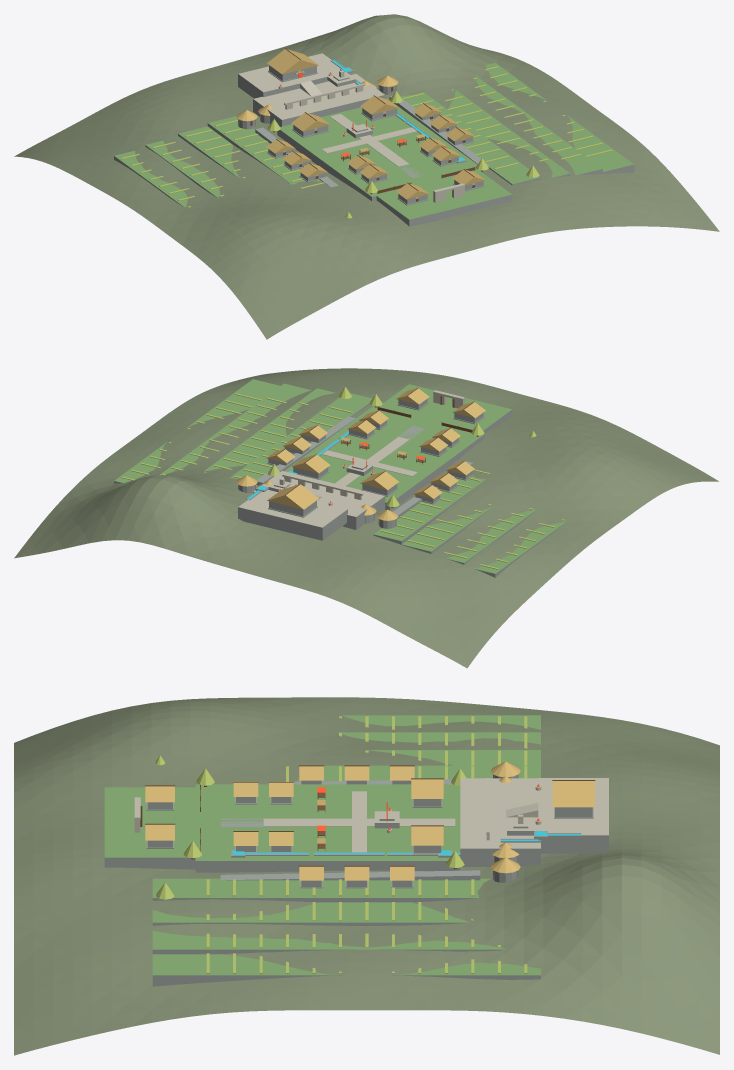
Rendered from living_sun_temple_town.glb.
3 views of the same model, one above another, from view 1: azimuth 30°, elevation 25°; view 2: azimuth 150°, elevation 25°; view 3: azimuth 270°, elevation 25° (orthographic). The views are drawn at different scales.
Visible parts, largest first — view 1: Mountain Terrain, Terrace Grass, Andesite Architecture, Sacred Dressed Stone, Intact Thatch Roofs, Cultivated Crops, Wood Doors and Beams; view 2: Mountain Terrain, Terrace Grass, Andesite Architecture, Intact Thatch Roofs, Sacred Dressed Stone, Cultivated Crops, Wood Doors and Beams; view 3: Mountain Terrain, Terrace Grass, Andesite Architecture, Sacred Dressed Stone, Intact Thatch Roofs, Cultivated Crops, Wood Doors and Beams, Sacred Water Channels.
Part boxes in pixels (<box>): Mountain Terrain: <box>14,14,719,339</box>; Terrace Grass: <box>114,62,633,219</box>; Andesite Architecture: <box>114,59,634,226</box>; Sacred Dressed Stone: <box>238,53,474,202</box>; Intact Thatch Roofs: <box>236,49,485,199</box>; Cultivated Crops: <box>121,66,612,218</box>; Wood Doors and Beams: <box>250,48,483,201</box>; Mountain Terrain: <box>14,368,718,668</box>; Terrace Grass: <box>114,379,566,573</box>; Andesite Architecture: <box>114,398,565,577</box>; Intact Thatch Roofs: <box>236,388,485,520</box>; Sacred Dressed Stone: <box>238,390,464,527</box>; Cultivated Crops: <box>121,386,564,569</box>; Wood Doors and Beams: <box>273,387,478,507</box>; Mountain Terrain: <box>14,697,719,1055</box>; Terrace Grass: <box>104,715,540,975</box>; Andesite Architecture: <box>104,774,608,986</box>; Sacred Dressed Stone: <box>134,778,608,852</box>; Intact Thatch Roofs: <box>145,761,594,880</box>; Cultivated Crops: <box>155,716,527,973</box>; Wood Doors and Beams: <box>140,765,595,875</box>; Sacred Water Channels: <box>233,831,581,855</box>.
Size of the model in its own units: 290 by 52.95 by 280.
